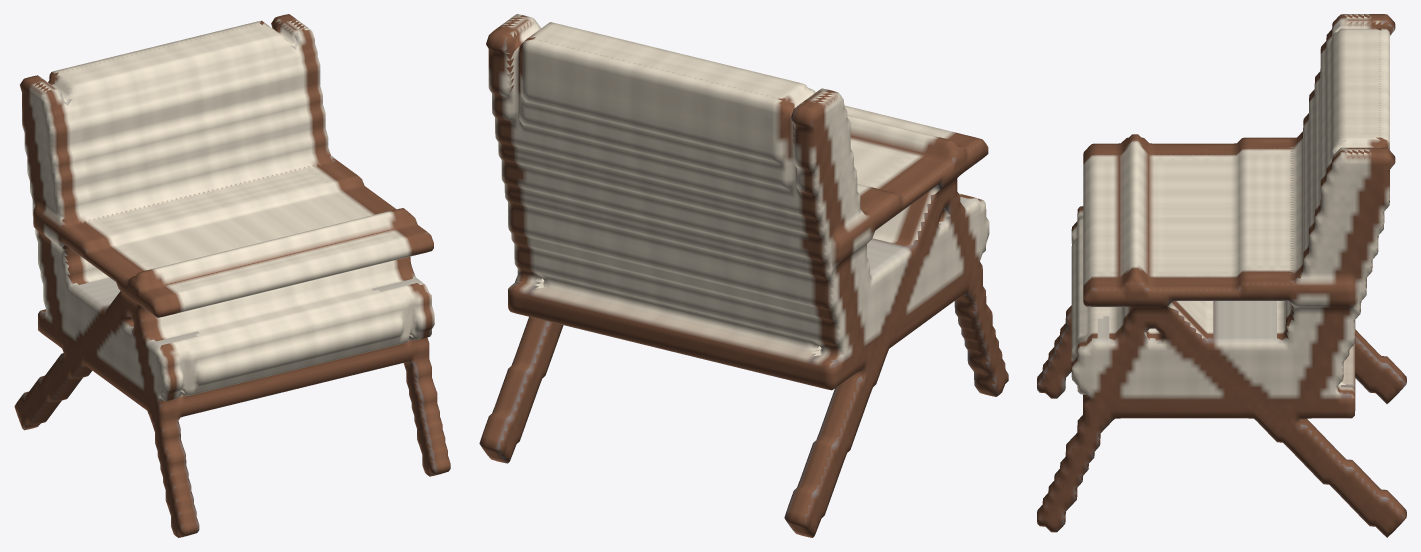
Rendered from stack3.glb.
3 renders of one model, left to right at view 1: azimuth 30°, elevation 25°; view 2: azimuth 150°, elevation 25°; view 3: azimuth 270°, elevation 25°, orthographic. The views are drawn at different scales.
Bounding box in the file's own units: 0.729 × 0.8808 × 0.7695.
Materials: 1 (1 with a texture image).
